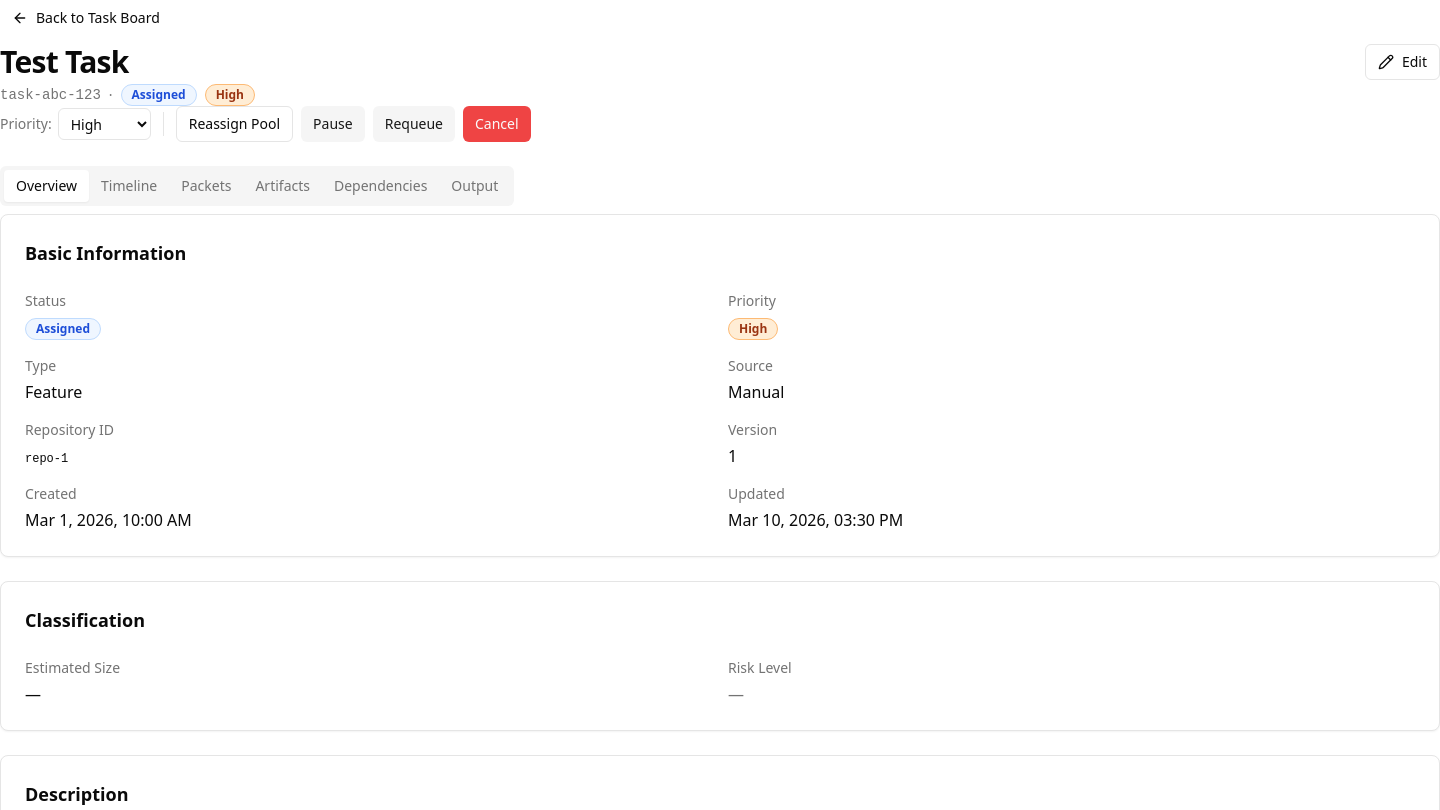
Test case: TaskActionBar integration › opens reassign pool dialog and submits
The width and height of the screenshot is (1440, 810).
Click the button with test id "action-btn-reassign-pool". click: (234, 124)
box: [176, 106, 293, 142]
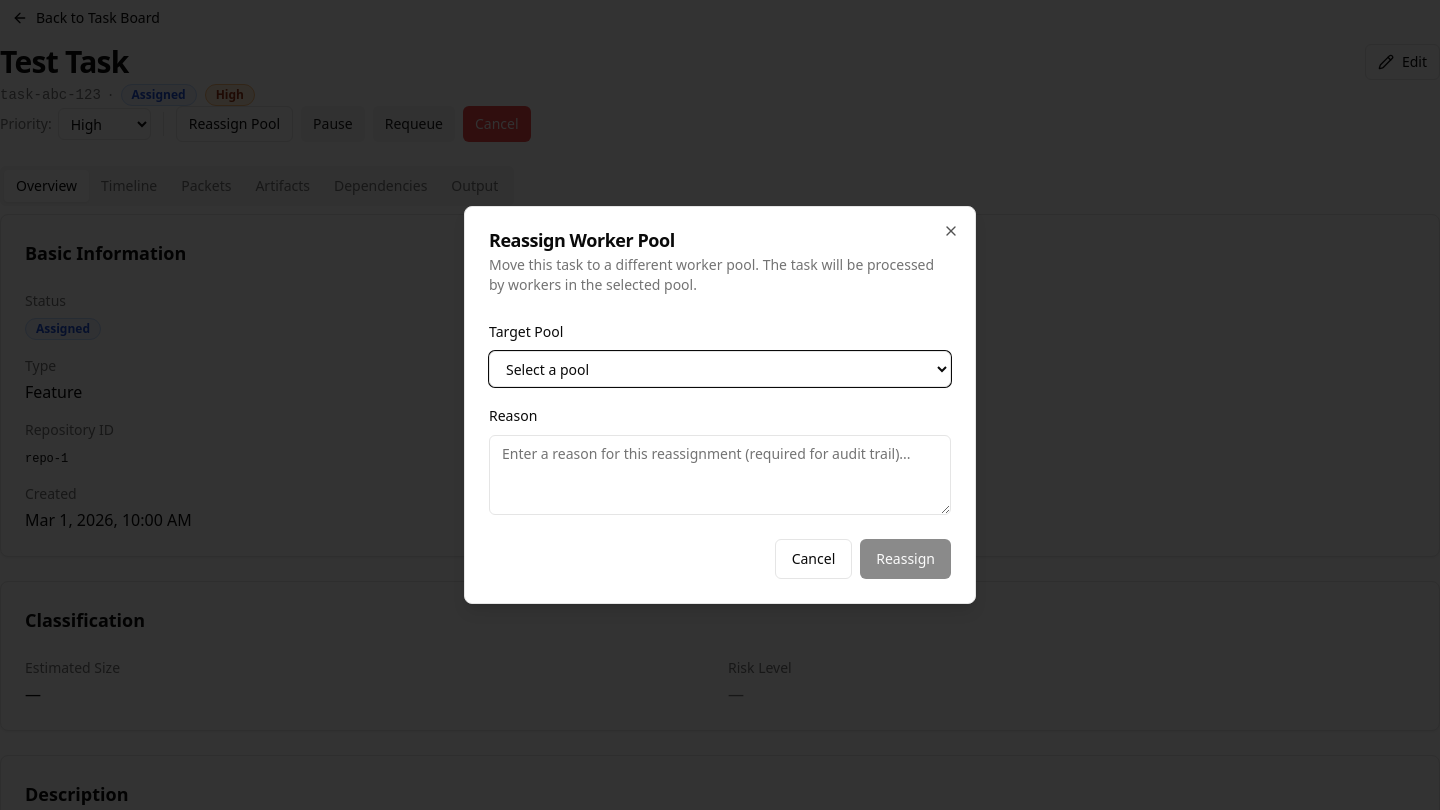
Expected: the dialog with test id "reassign-pool-dialog" is shown, [464, 206, 976, 604]
Expected: the button with test id "reassign-pool-submit" is disabled, [860, 539, 951, 579]
Note: Select a pool
Select "Review Pool (reviewer)" in the dropdown with test id "reassign-pool-select". click: (720, 369)
box: [489, 351, 951, 387]
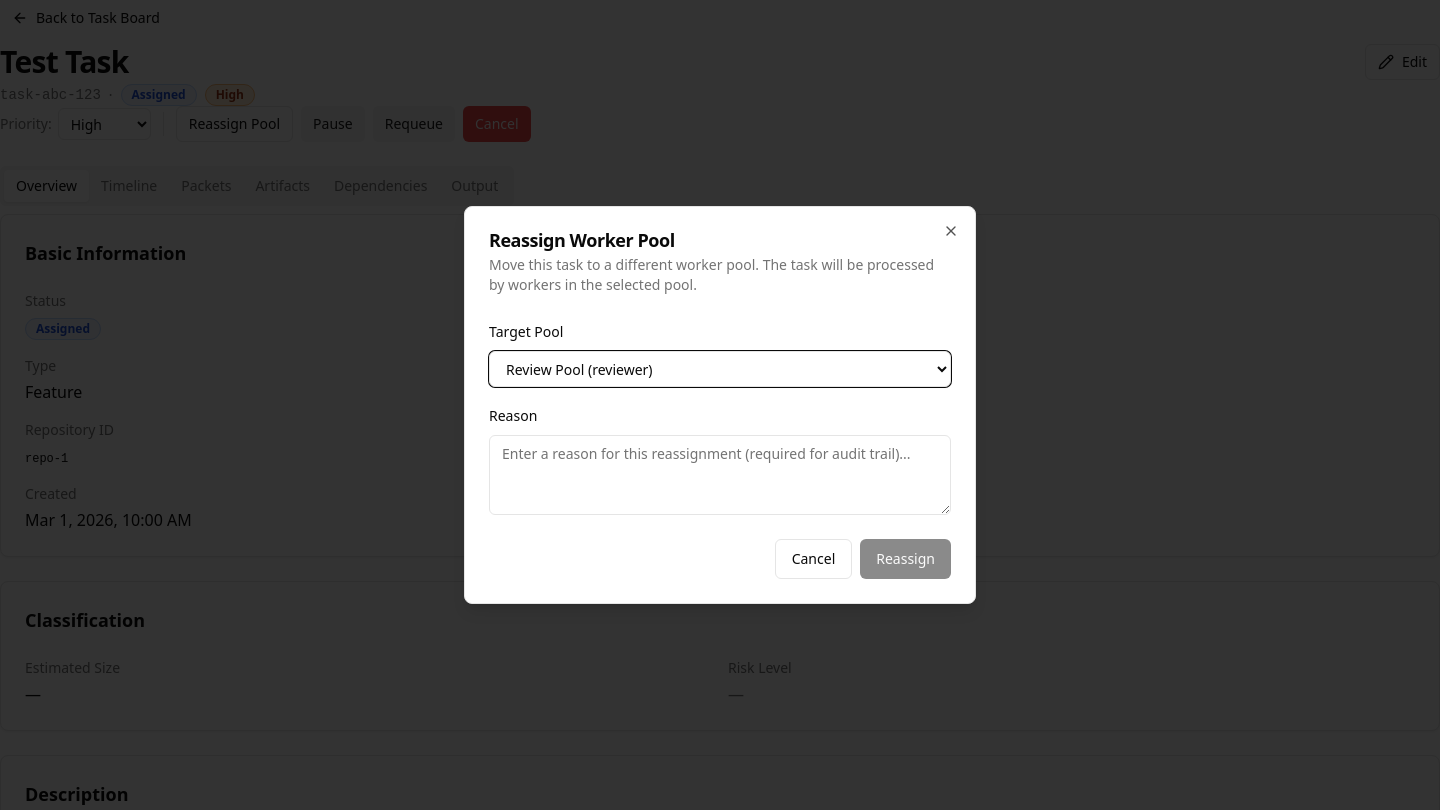
Expected: the button with test id "reassign-pool-submit" is disabled, [860, 539, 951, 579]
Note: Type a reason
Type "Moving to review pool for capacity" into the text box with test id "reassign-pool-reason". click: (720, 475)
box: [489, 435, 951, 515]
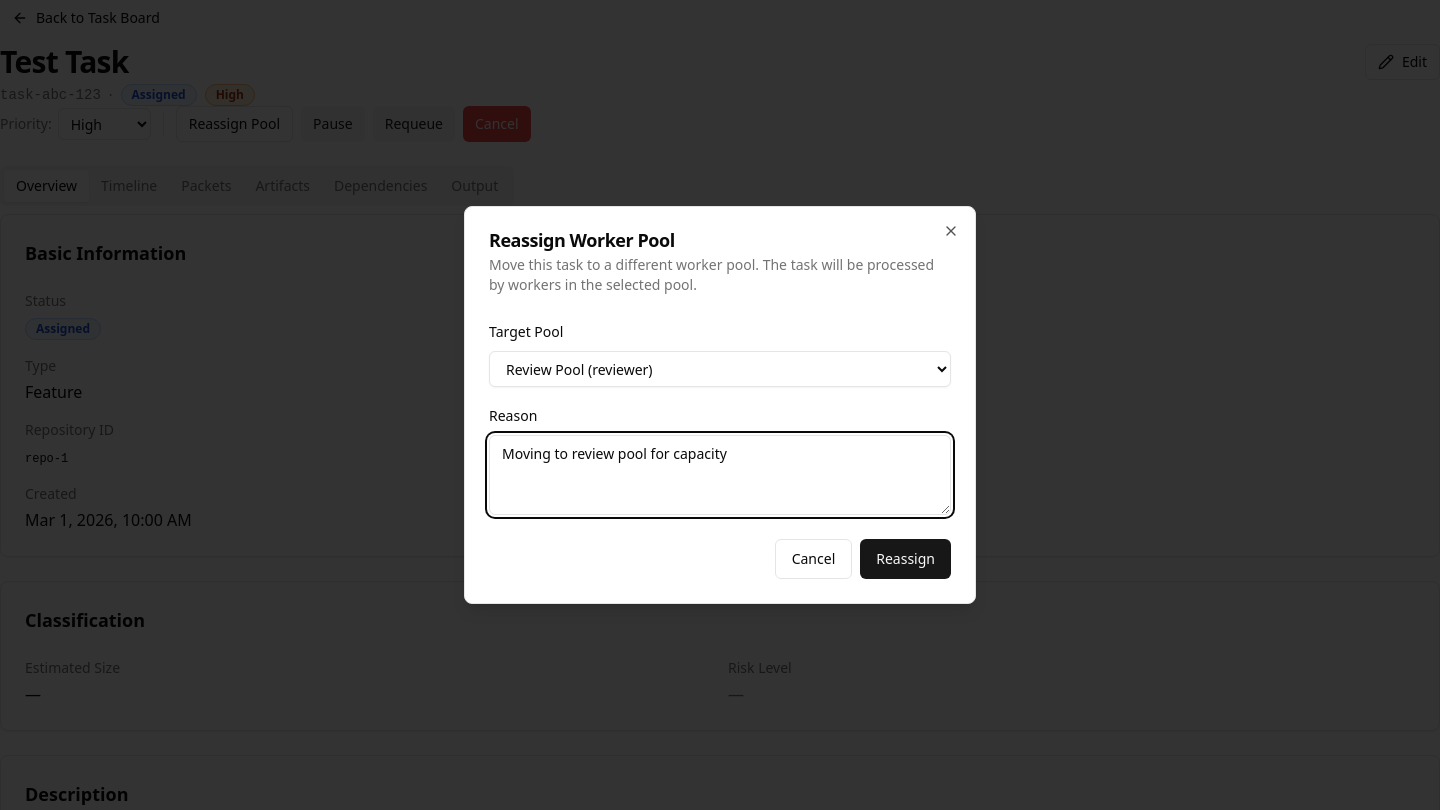
Expected: the button with test id "reassign-pool-submit" is enabled
Note: Click confirm
Click the button with test id "reassign-pool-submit". click: (906, 559)
box: [860, 539, 951, 579]
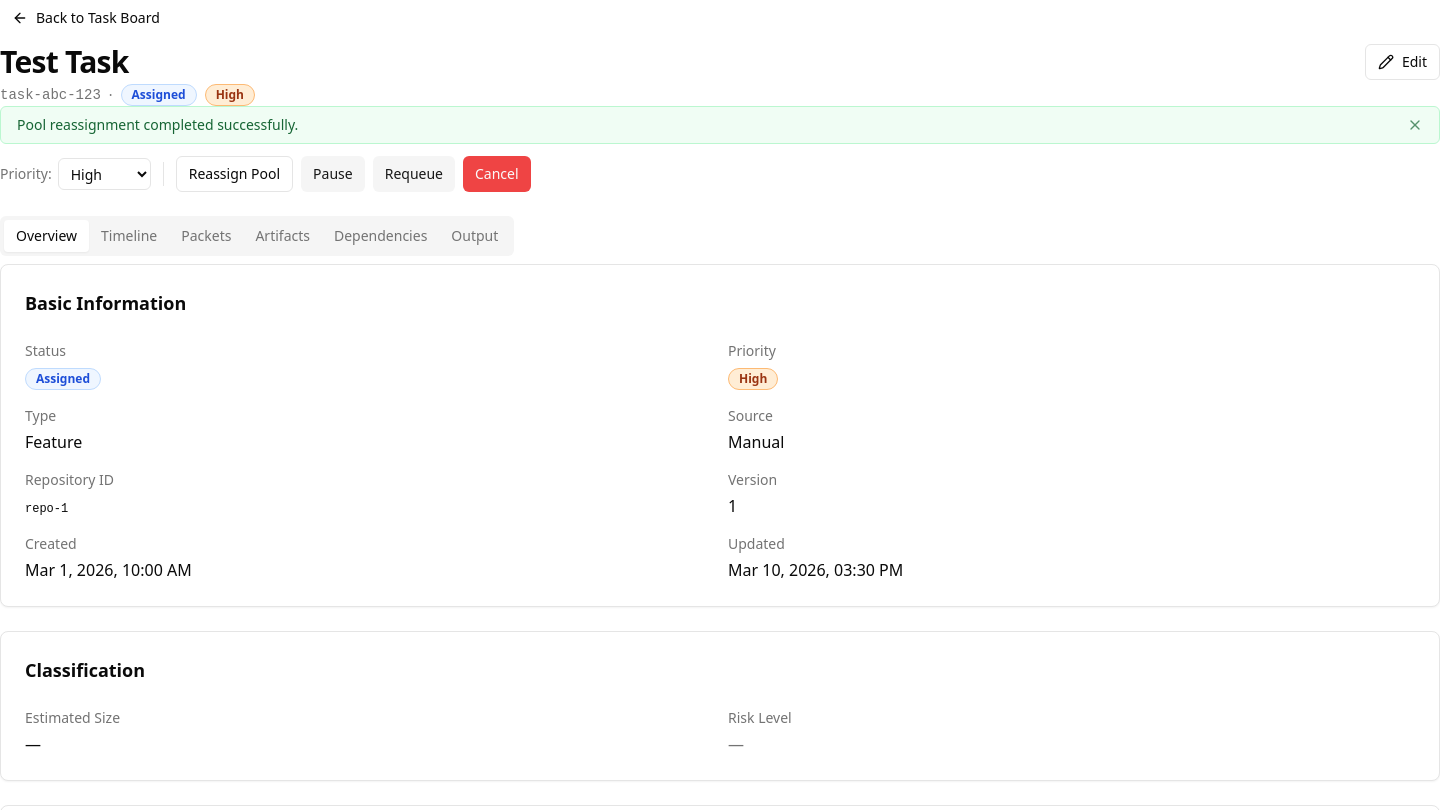
Expected: the message "Pool reassignment completed successfully." is shown, [0, 106, 1439, 144]
